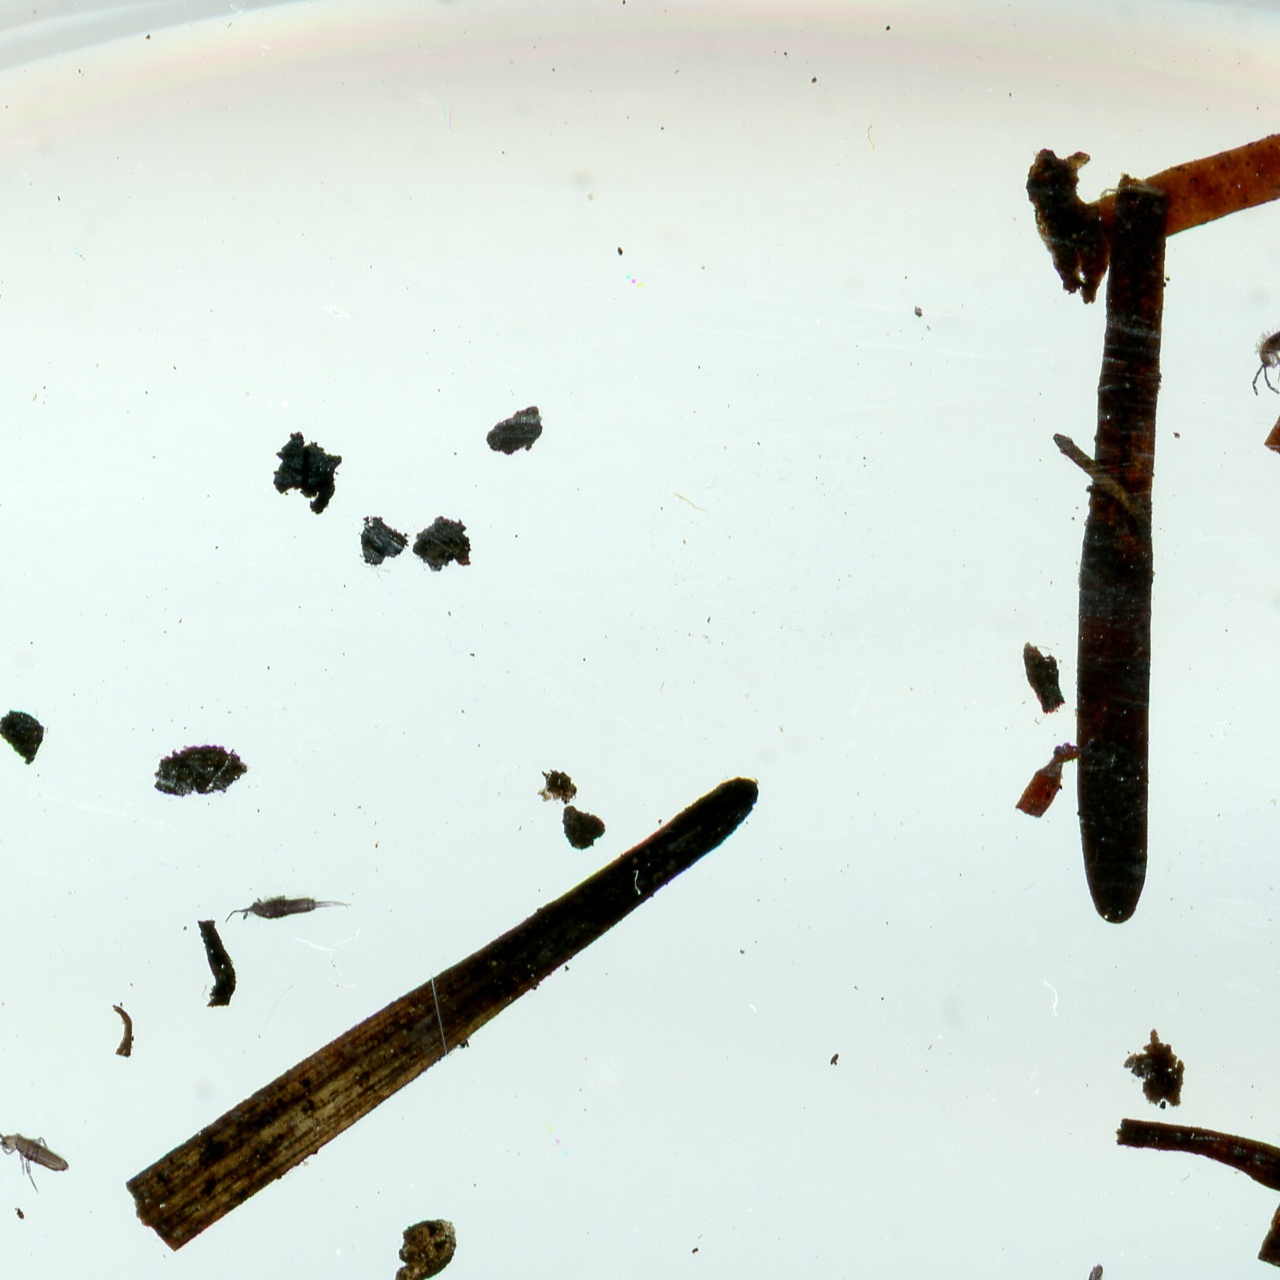arthropod: (0, 1112, 80, 1201), (1226, 290, 1280, 415), (217, 886, 361, 932), (1043, 1252, 1110, 1280)
